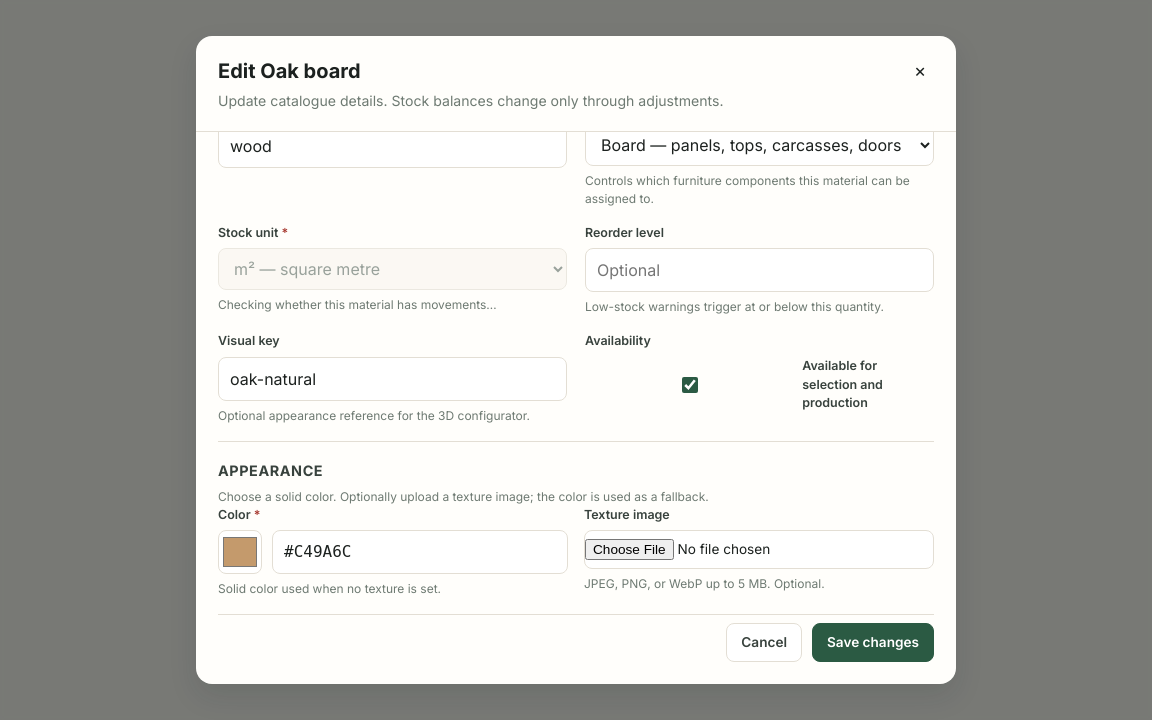
Test: MaterialFormModal appearance controls › updates the color picker when a valid hex value is typed
(page scrolled)
Replace the text in the field named "Hex color" with "#654321" at (420, 552), box x1=272 y1=530 x2=568 y2=574
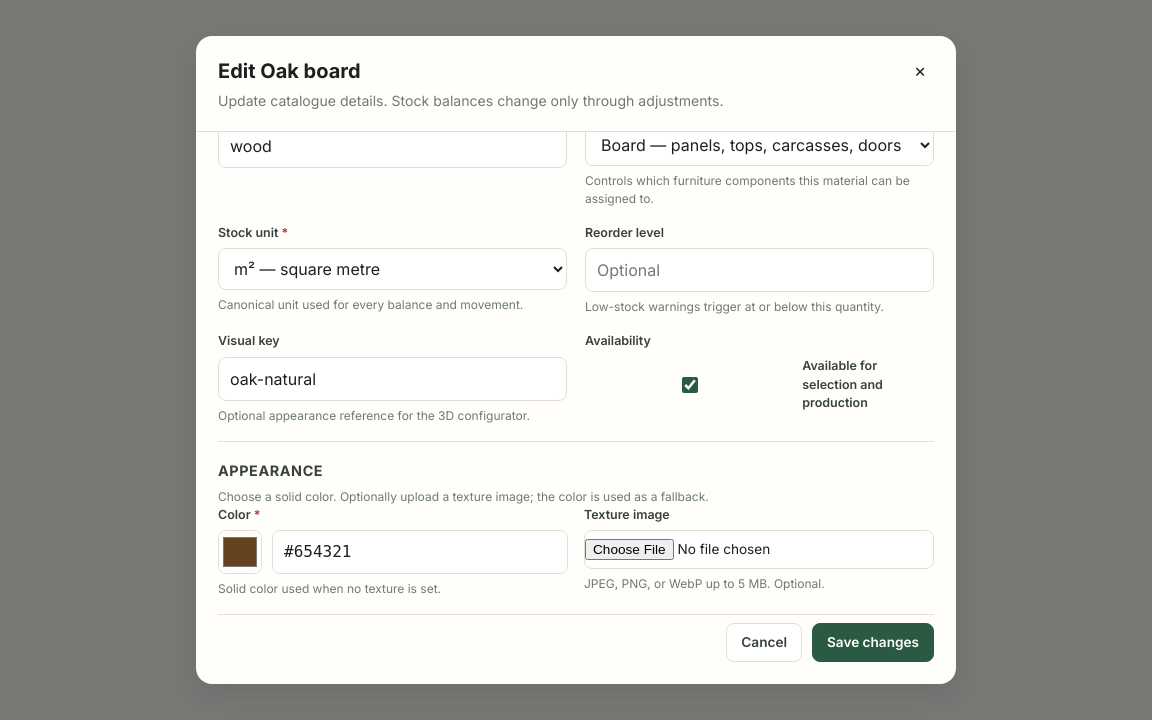
Result: the colour field labelled "Color *" holds "#654321" at x1=218 y1=530 x2=262 y2=574
